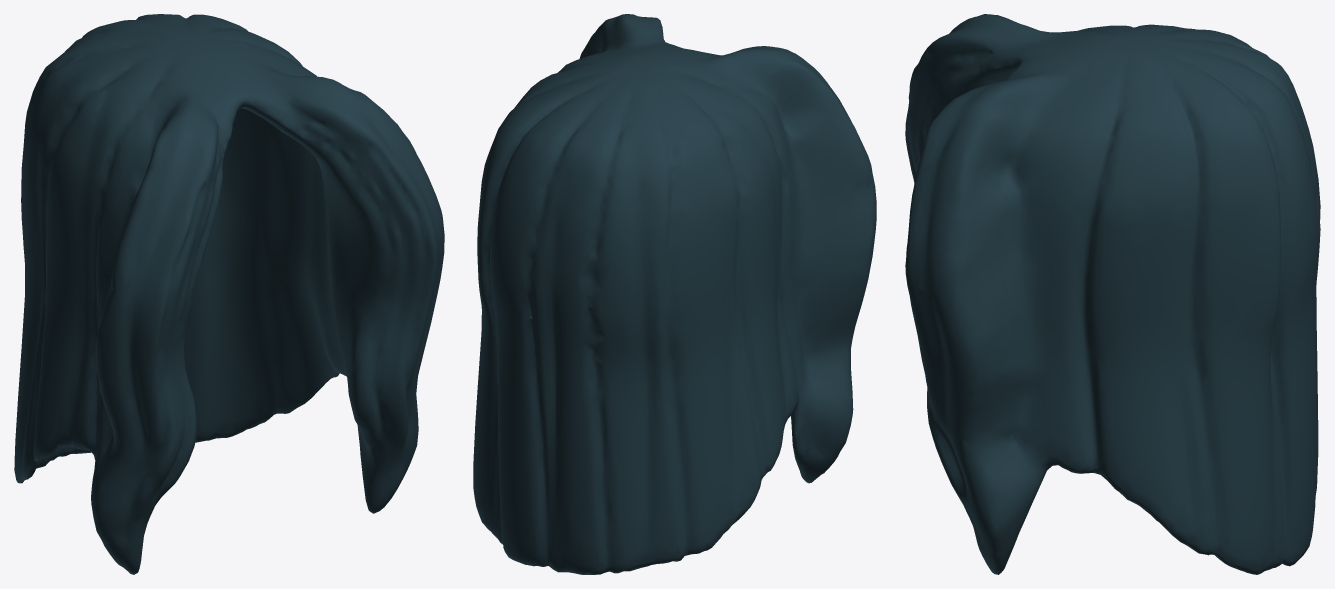
Rendered from midnight_long_waves.glb.
3 renders of one model, left to right at view 1: azimuth 30°, elevation 25°; view 2: azimuth 150°, elevation 25°; view 3: azimuth 270°, elevation 25°, orthographic. The views are drawn at different scales.
Parts seen in each view (by area): view 1: midnight_long_waves; view 2: midnight_long_waves; view 3: midnight_long_waves.
Boxes of the visible parts, box(x1,y1,x2,y2) form: midnight_long_waves: box(14, 14, 444, 574); midnight_long_waves: box(473, 14, 876, 574); midnight_long_waves: box(905, 14, 1320, 574).
Size of the model in its own units: 0.9064 by 1.21 by 0.9236.
